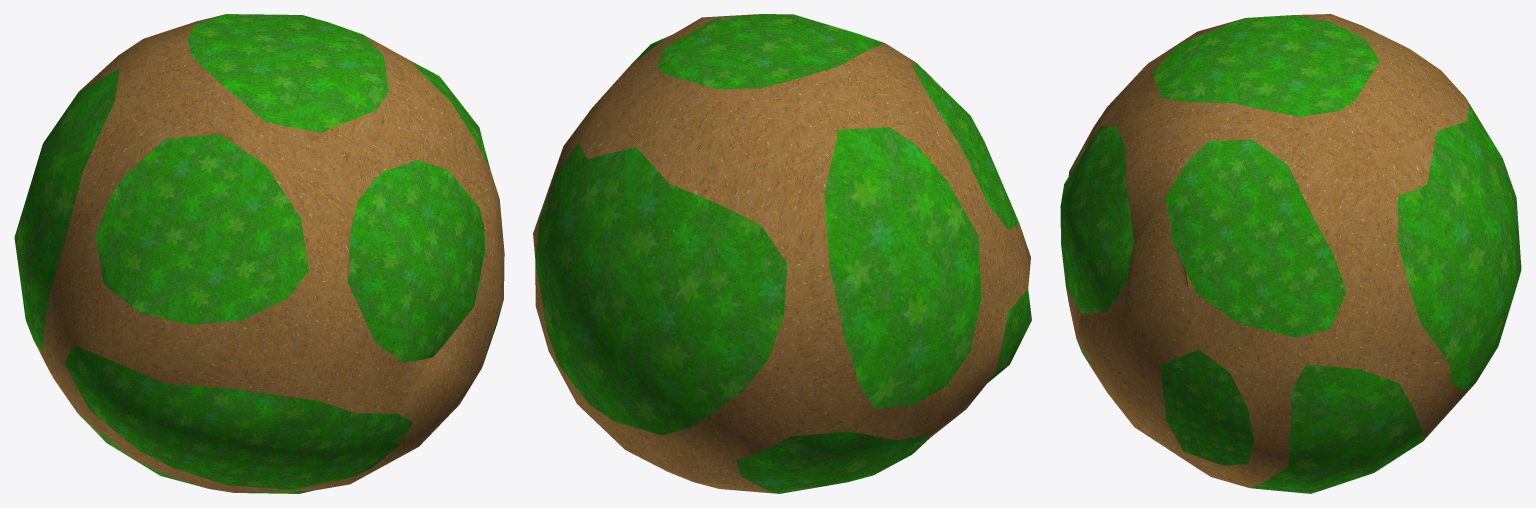
File: MODELLCOLfbx.fbx
The picture shows the model from 3 angles, left to right: view 1: azimuth 30°, elevation 25°; view 2: azimuth 150°, elevation 25°; view 3: azimuth 270°, elevation 25°; orthographic projection. The views are drawn at different scales.
Visible parts, largest first — view 1: Sphere.000, Sphere.001; view 2: Sphere.000, Sphere.001; view 3: Sphere.000, Sphere.001.
Boxes of the visible parts, x1,y1,x2,y2 form: Sphere.000: [14, 14, 502, 493]; Sphere.001: [34, 14, 504, 492]; Sphere.000: [535, 14, 1031, 493]; Sphere.001: [533, 14, 1030, 493]; Sphere.000: [1060, 15, 1521, 493]; Sphere.001: [1066, 14, 1474, 487].
Size of the model in its own units: 202253 by 196576 by 197782.
Materials: 2 (2 with a texture image).
